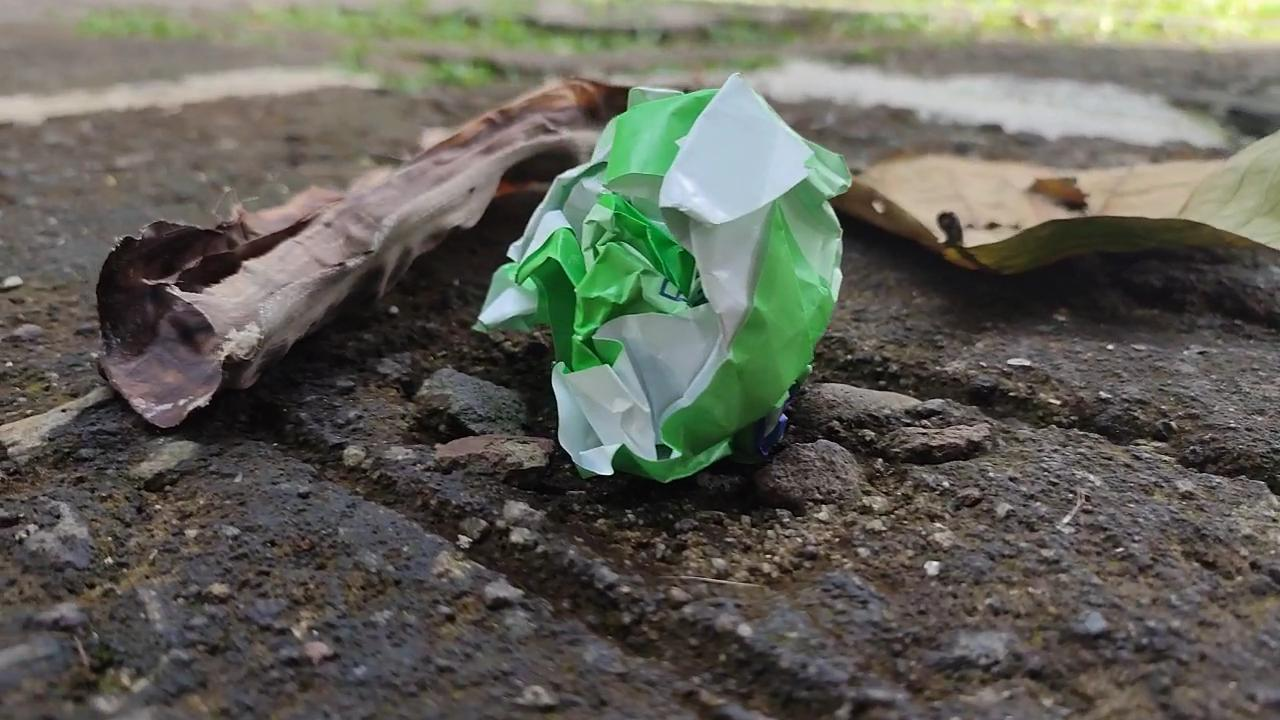Paper: (468, 62, 866, 488)
